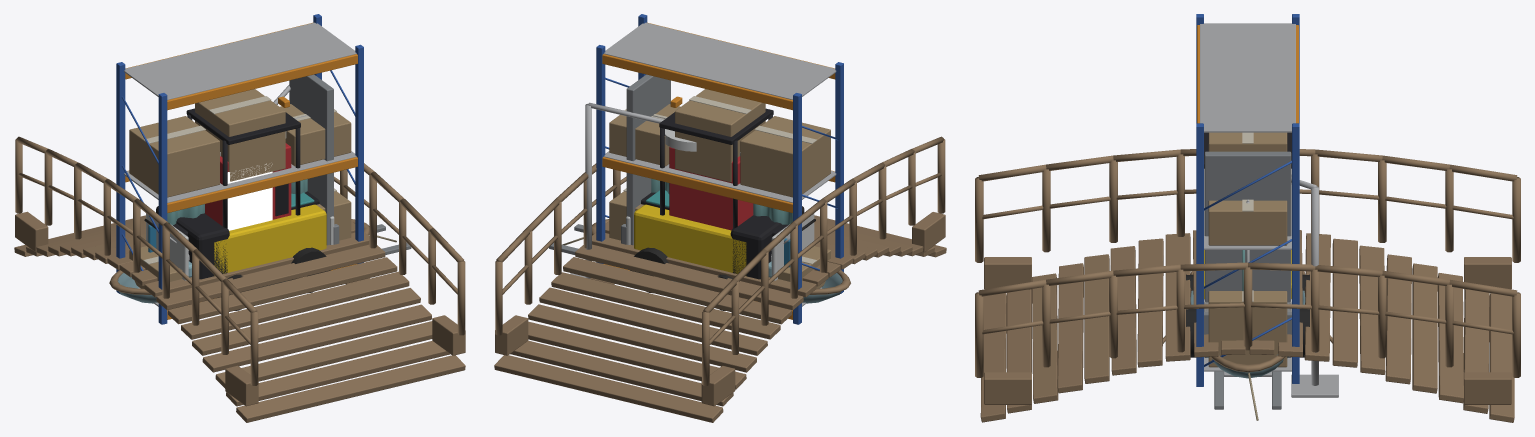
Rendered from interior.glb.
The picture shows the model from 3 angles, left to right: view 1: azimuth 30°, elevation 25°; view 2: azimuth 150°, elevation 25°; view 3: azimuth 270°, elevation 25°; orthographic projection. The views are drawn at different scales.
Parts seen in each view (by area): view 1: footbridge, rack, forklift, vending, rowboat, hosp_bed, curtain_screen, op_table; view 2: footbridge, rack, forklift, vending, op_table, rowboat, hosp_bed, curtain_screen; view 3: footbridge, rack, forklift, op_table, rowboat.
Part boxes in pixels (x1,y1,x2,y2): footbridge: [14, 136, 465, 422]; rack: [116, 14, 363, 324]; forklift: [156, 74, 411, 310]; vending: [205, 143, 291, 230]; rowboat: [109, 219, 396, 303]; hosp_bed: [146, 213, 334, 280]; curtain_screen: [167, 115, 308, 225]; op_table: [173, 85, 319, 236]; footbridge: [494, 136, 946, 422]; rack: [596, 14, 843, 324]; forklift: [549, 74, 804, 310]; vending: [669, 147, 753, 230]; op_table: [570, 102, 787, 278]; rowboat: [562, 219, 850, 303]; hosp_bed: [626, 213, 814, 280]; curtain_screen: [651, 115, 792, 224]; footbridge: [975, 149, 1520, 422]; rack: [1196, 14, 1299, 386]; forklift: [1186, 132, 1309, 409]; op_table: [1291, 168, 1338, 397]; rowboat: [1163, 271, 1332, 420].
Bounding box in the file's own units: 3.96 × 3.36 × 5.69.
